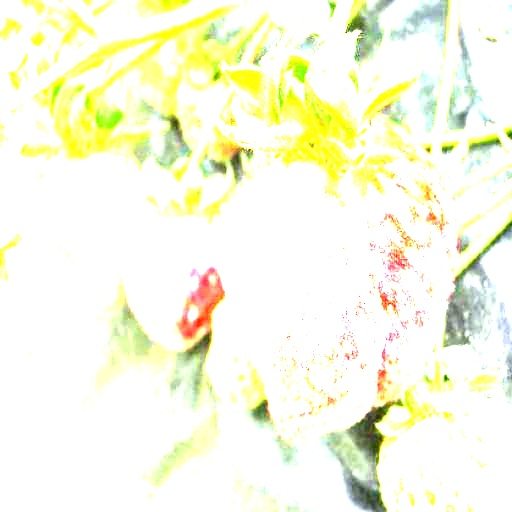Powdery Mildew Fruit: (214, 112, 459, 445), (40, 142, 145, 305), (378, 384, 511, 511), (122, 213, 226, 351), (176, 38, 271, 163), (0, 47, 33, 157)
